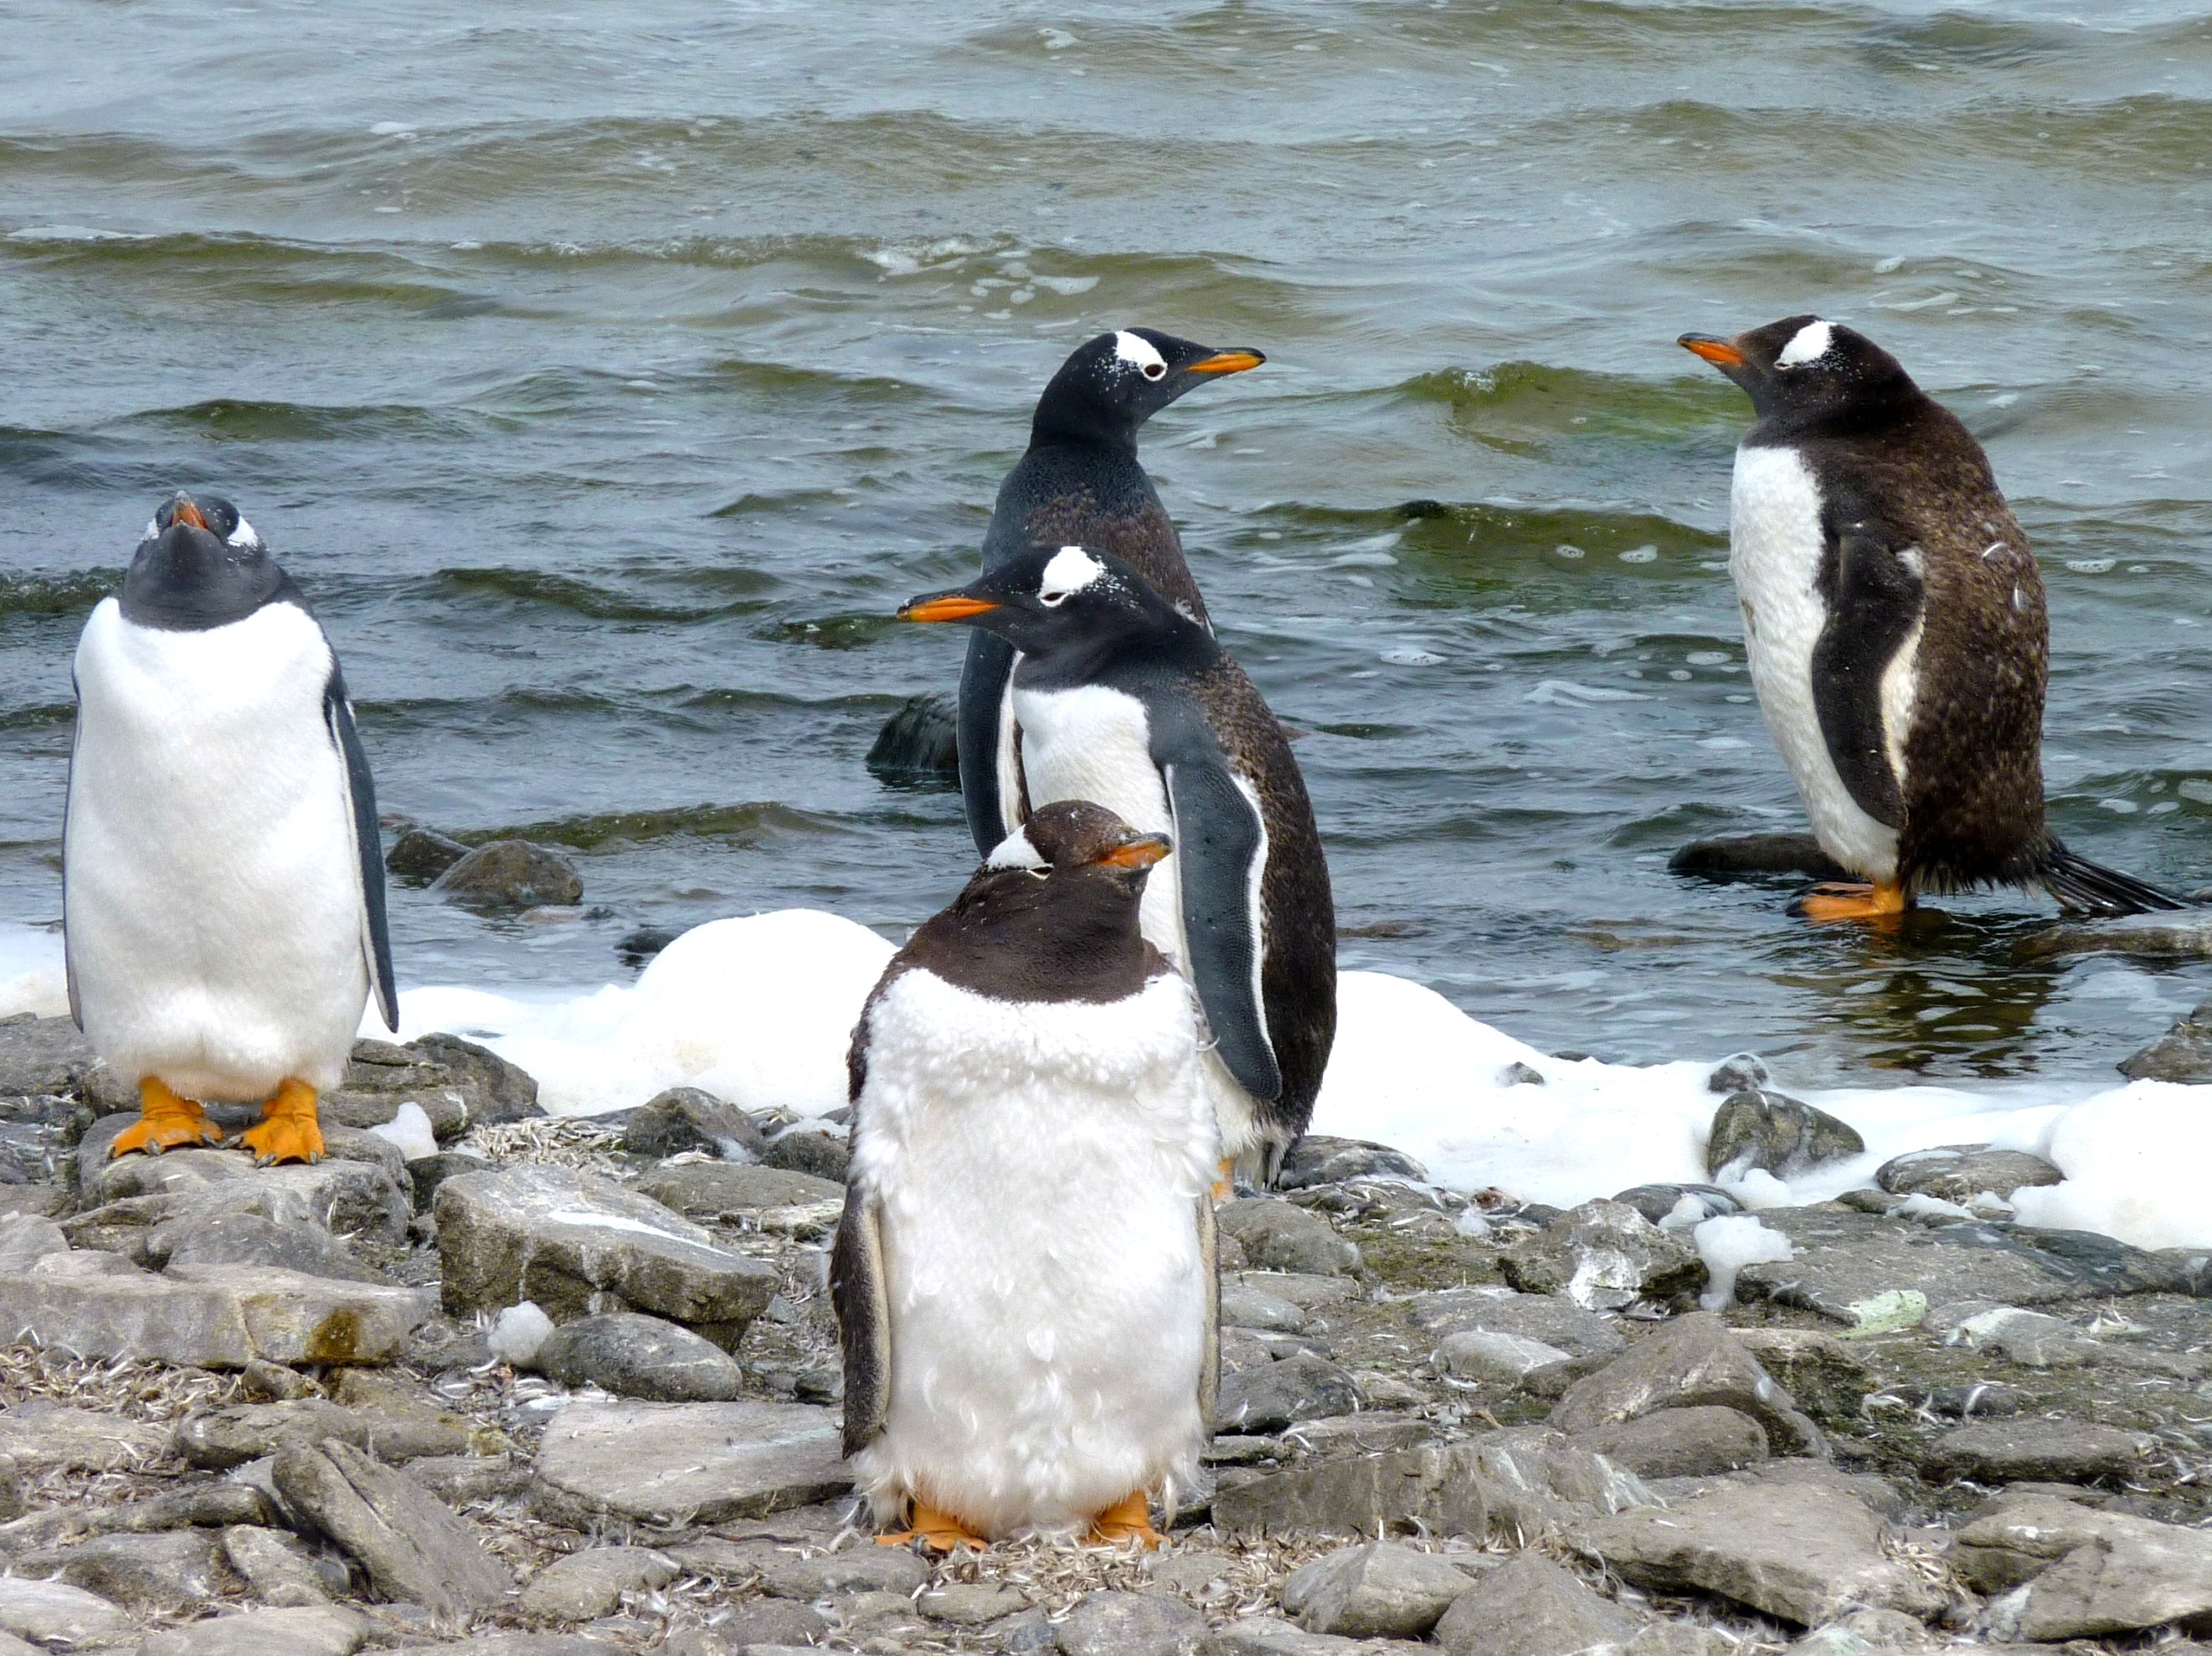penguin: (1668, 308, 2200, 952), (810, 807, 1231, 1553), (61, 470, 416, 1169)
